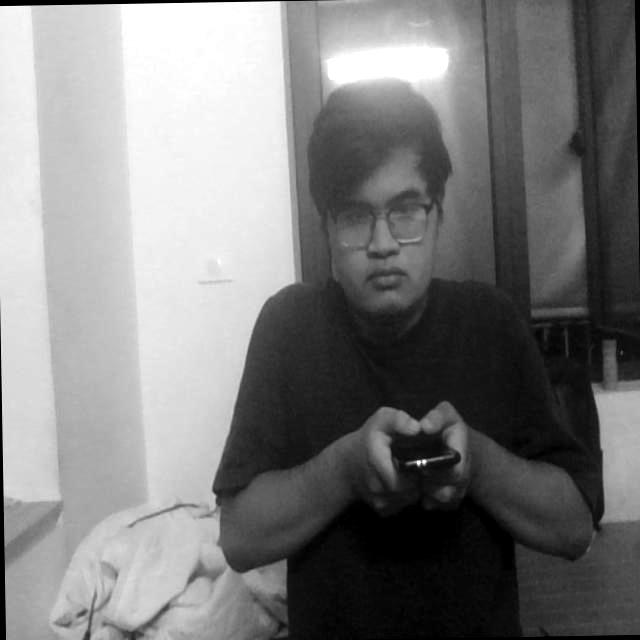phone: (368, 409, 478, 496)
